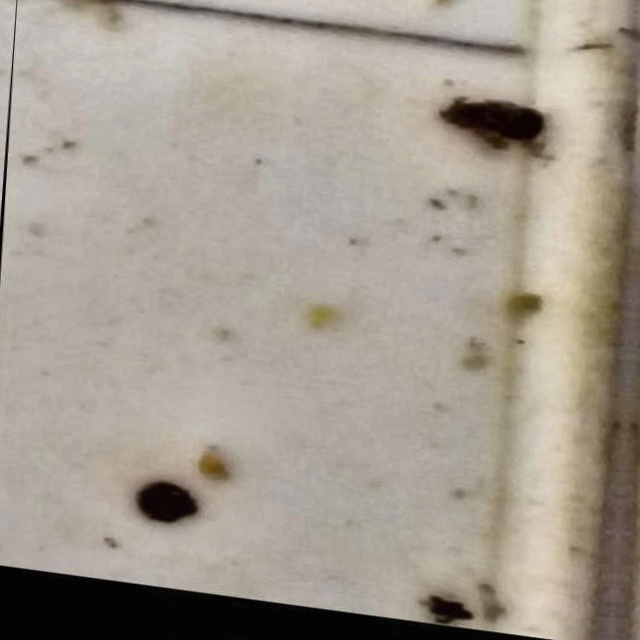varroa: (431, 98, 550, 149), (129, 483, 197, 536)
